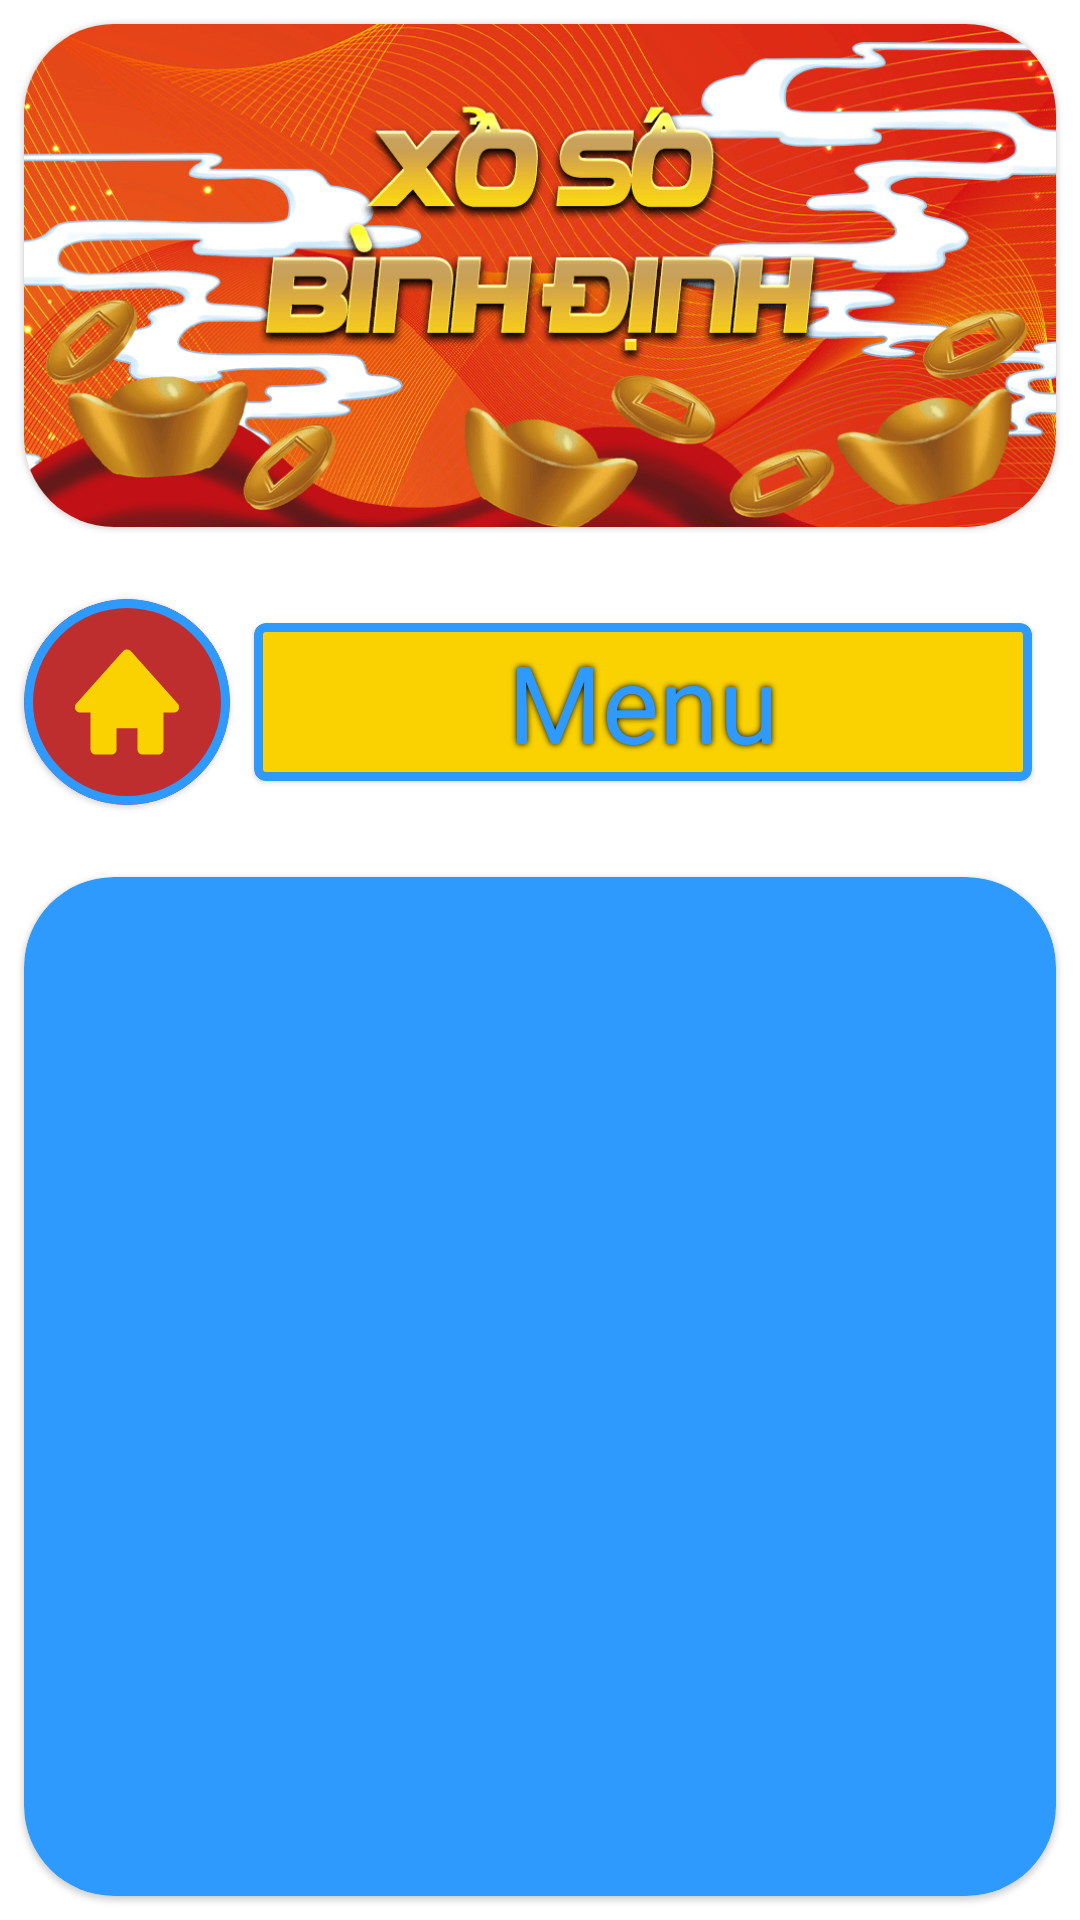

Named icons in this screenshot (1080px×1920px) and their centers, (x,y):
home: (127,702)
